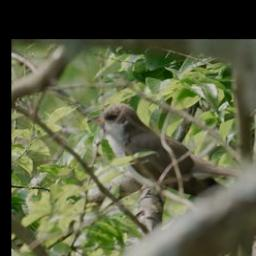Cuckoo: (88, 101, 245, 201)
